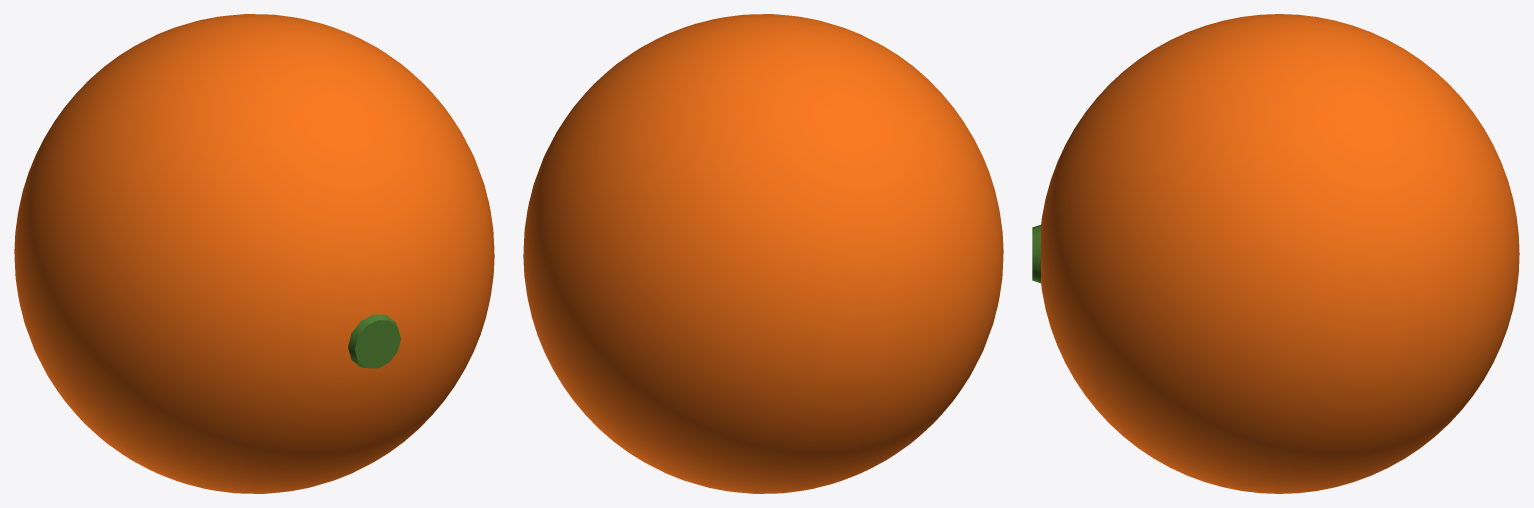
Rendered from orange.obj.
The picture shows the model from 3 angles, left to right: view 1: azimuth 30°, elevation 25°; view 2: azimuth 150°, elevation 25°; view 3: azimuth 270°, elevation 25°; orthographic projection.
Parts seen in each view (by area): view 1: orange_0_0, orange_1_2665; view 2: orange_0_0; view 3: orange_0_0.
Boxes of the visible parts, x1,y1,x2,y2 form: orange_0_0: (14,14,494,493); orange_1_2665: (348,314,400,368); orange_0_0: (523,14,1003,493); orange_0_0: (1041,14,1519,493).
Bounding box in the file's own units: 0.072 × 0.072 × 0.073.
